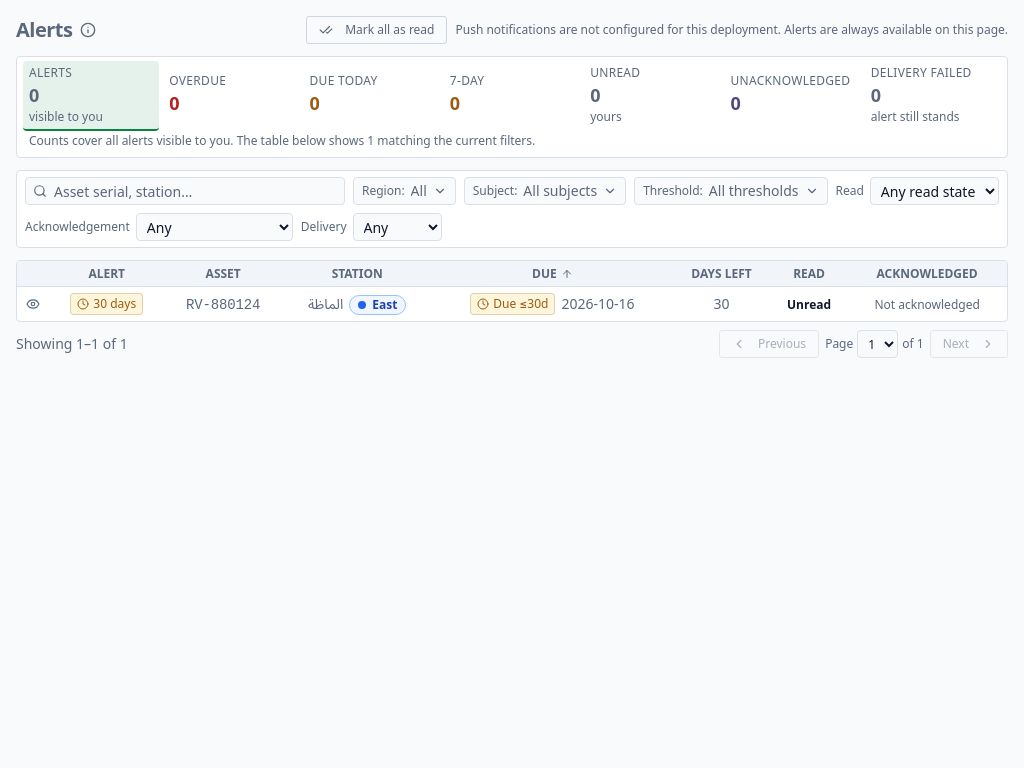
it: Acknowledgement › states a failed acknowledgement instead of swallowing it
This screenshot has width=1024, height=768.
Expected: the text "RV-880124" is shown, [186,296,260,312]
Click the button named "show the full technical record": (33, 304) [23,294,43,314]
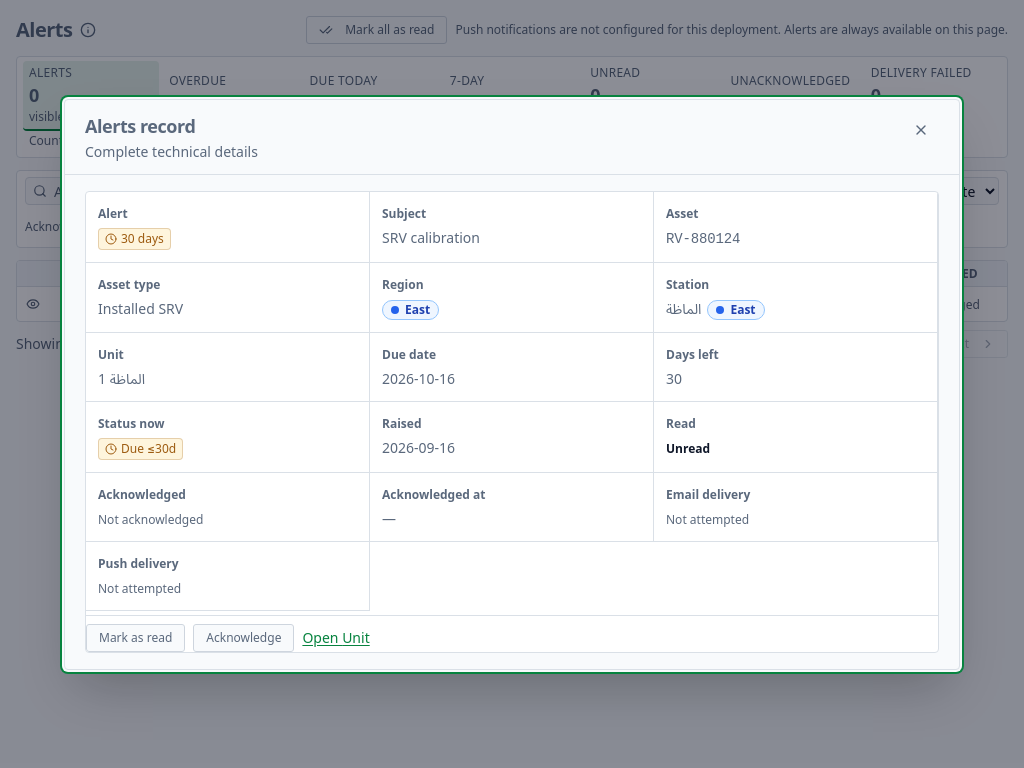
Click the button "Acknowledge": (244, 638) [193,624,294,652]
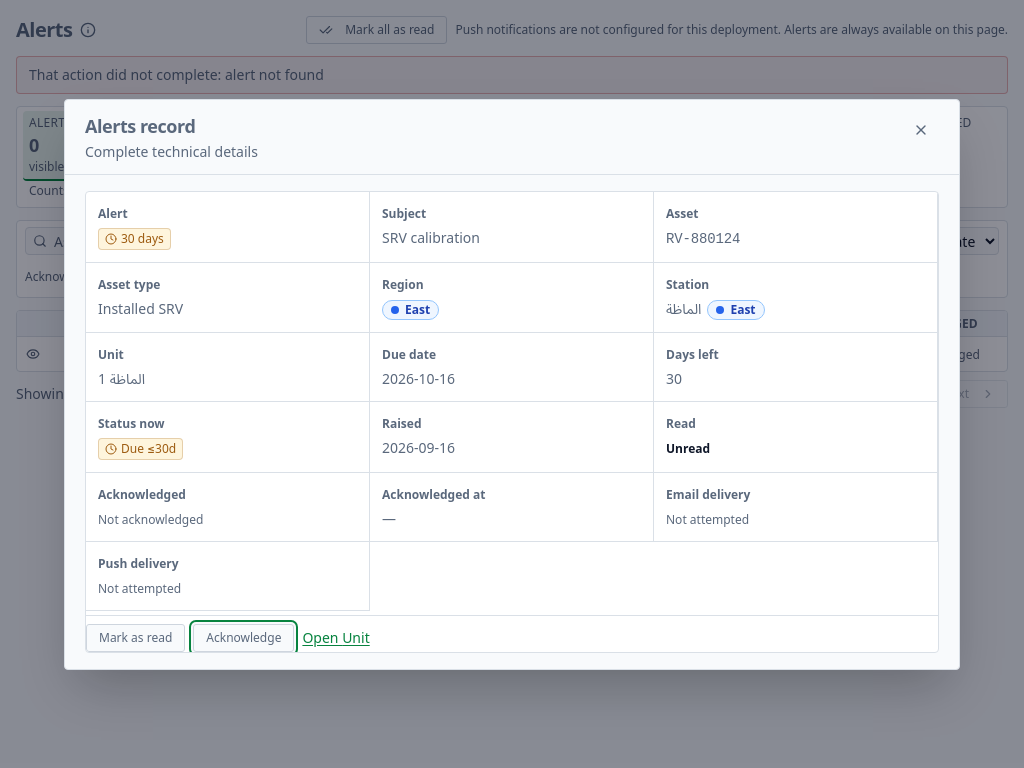
Now the message "That action did not complete: alert not found" is shown, box [16,56,1008,94]
Now the message shows "did not complete", box [29,65,225,84]
